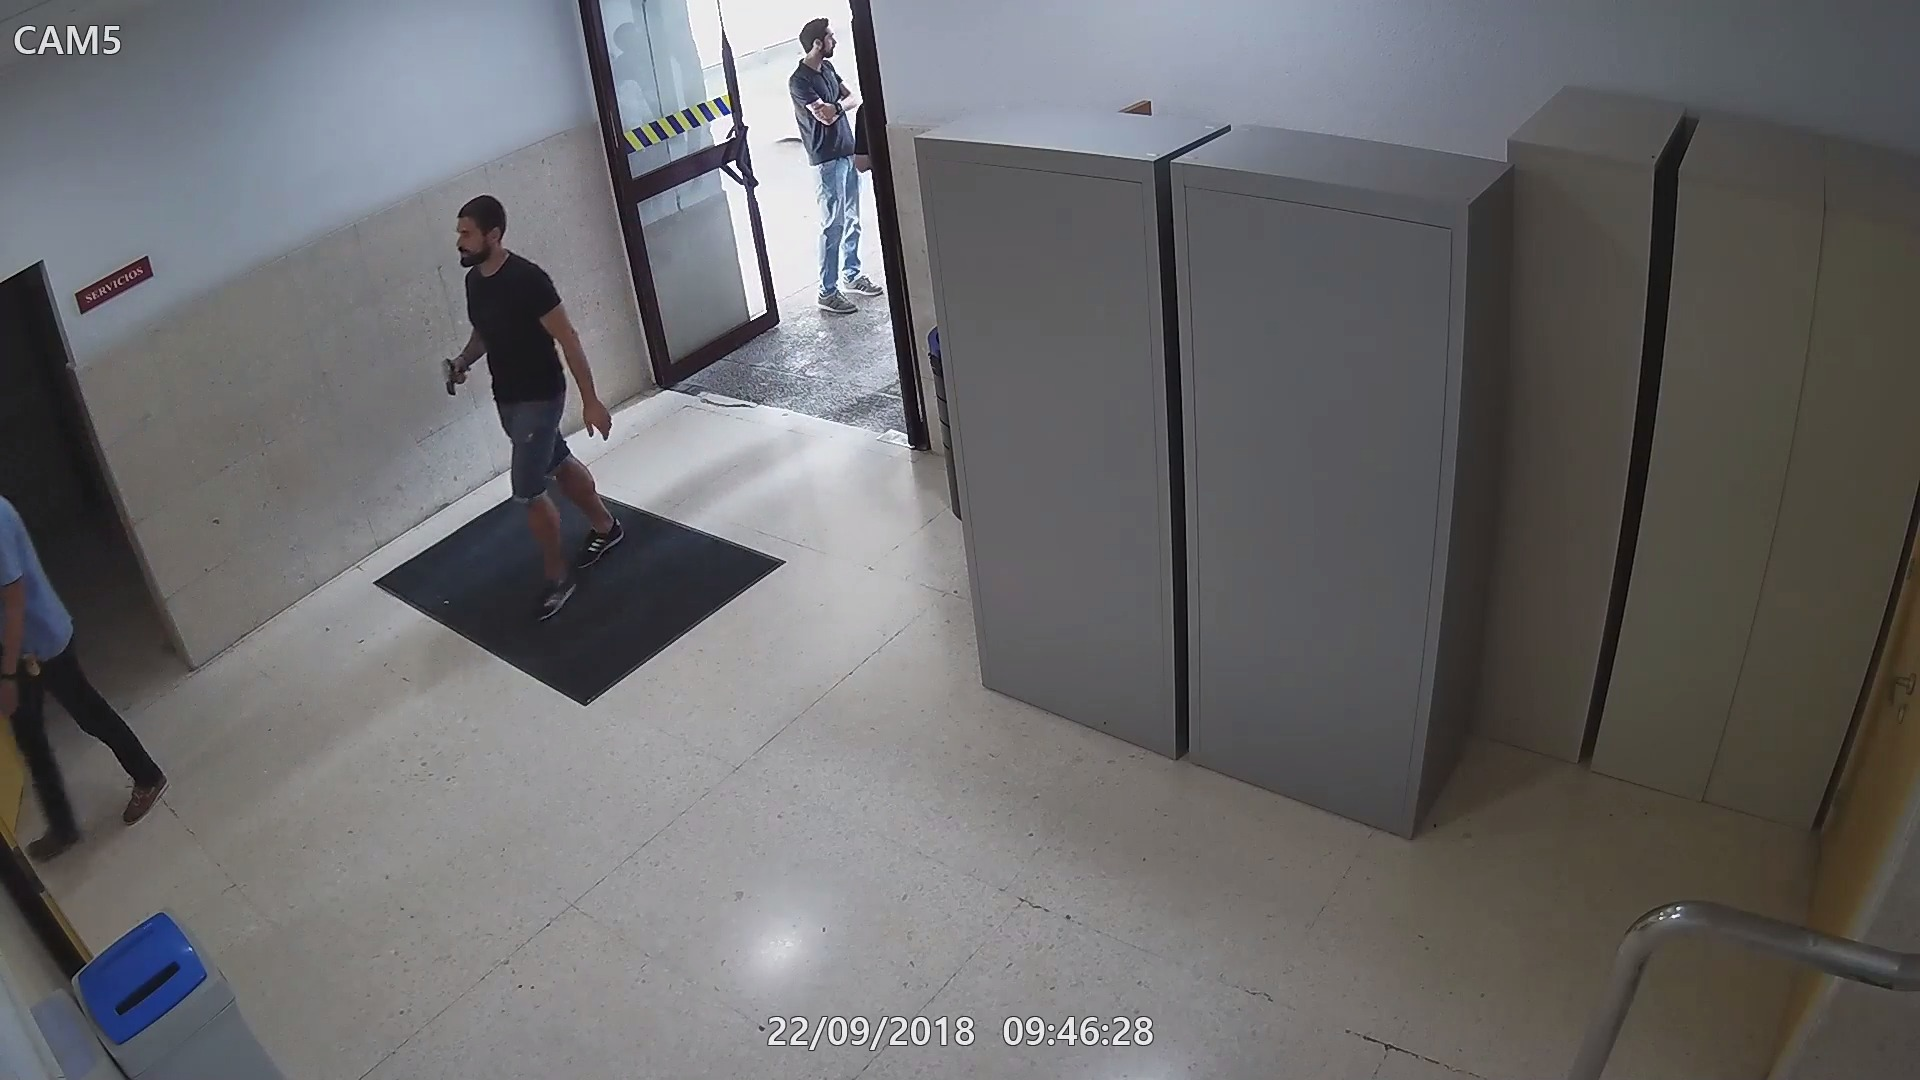Handgun: (439, 355, 469, 397)
